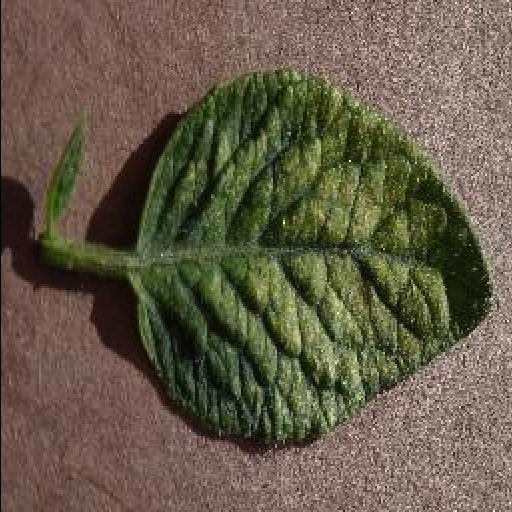disease_tomato: (134, 72, 494, 446)
